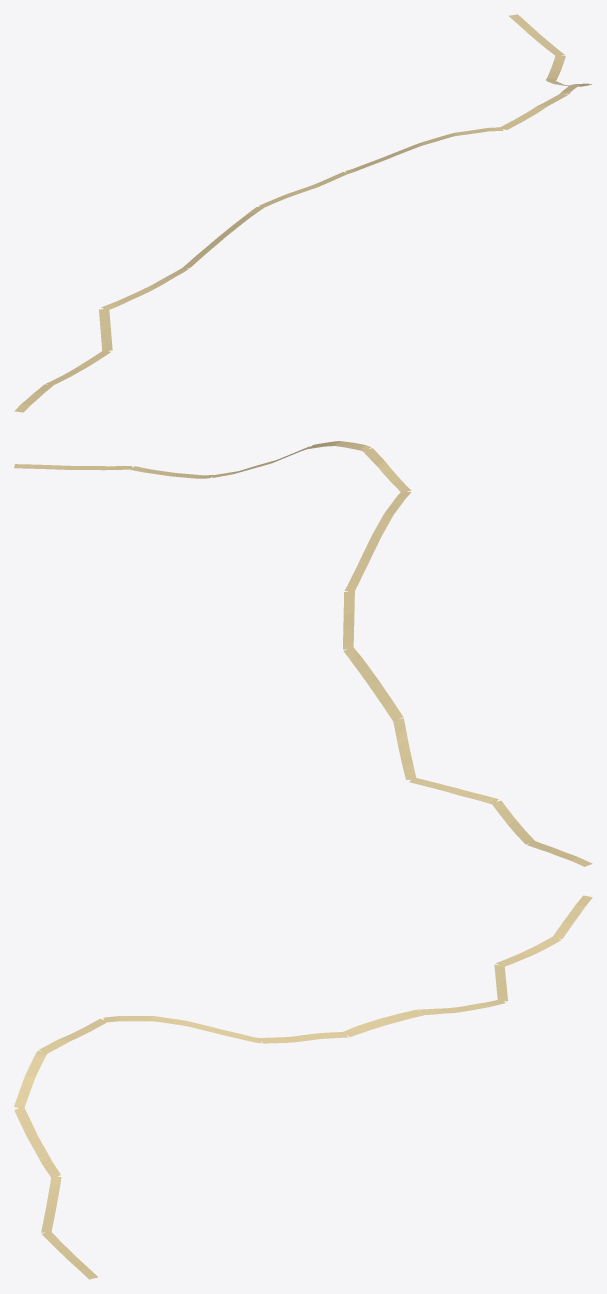
File: Trail_32.glb
3 views of the same model, one above another, from view 1: azimuth 90°, elevation 25°; view 2: azimuth 150°, elevation 25°; view 3: azimuth 270°, elevation 25° (orthographic). The views are drawn at different scales.
Visible parts, largest first — view 1: Trail_32; view 2: Trail_32; view 3: Trail_32.
Part boxes in pixels (<box>): Trail_32: <box>14,14,591,412</box>; Trail_32: <box>14,441,592,866</box>; Trail_32: <box>14,895,592,1279</box>.
Bounding box in the file's own units: 156 × 16.78 × 97.7.
